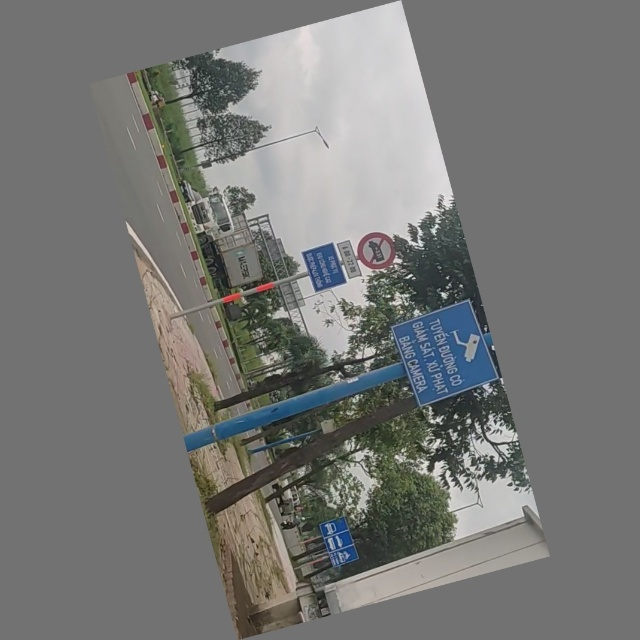Camera: (391, 299, 504, 407)
